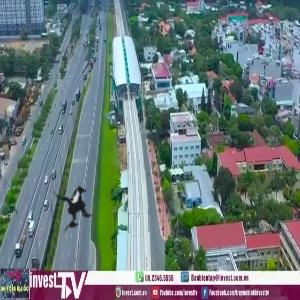drone: (33, 162, 128, 257)
